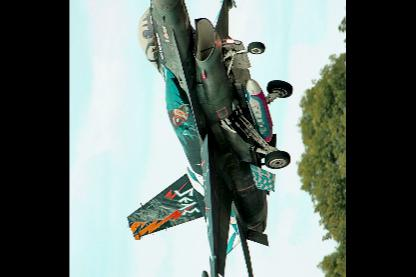F14: (126, 0, 293, 276)
